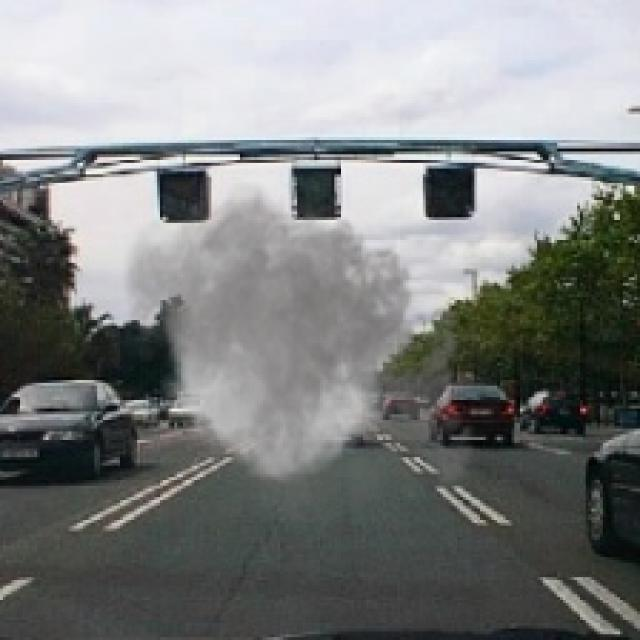smoke: (108, 168, 486, 548)
